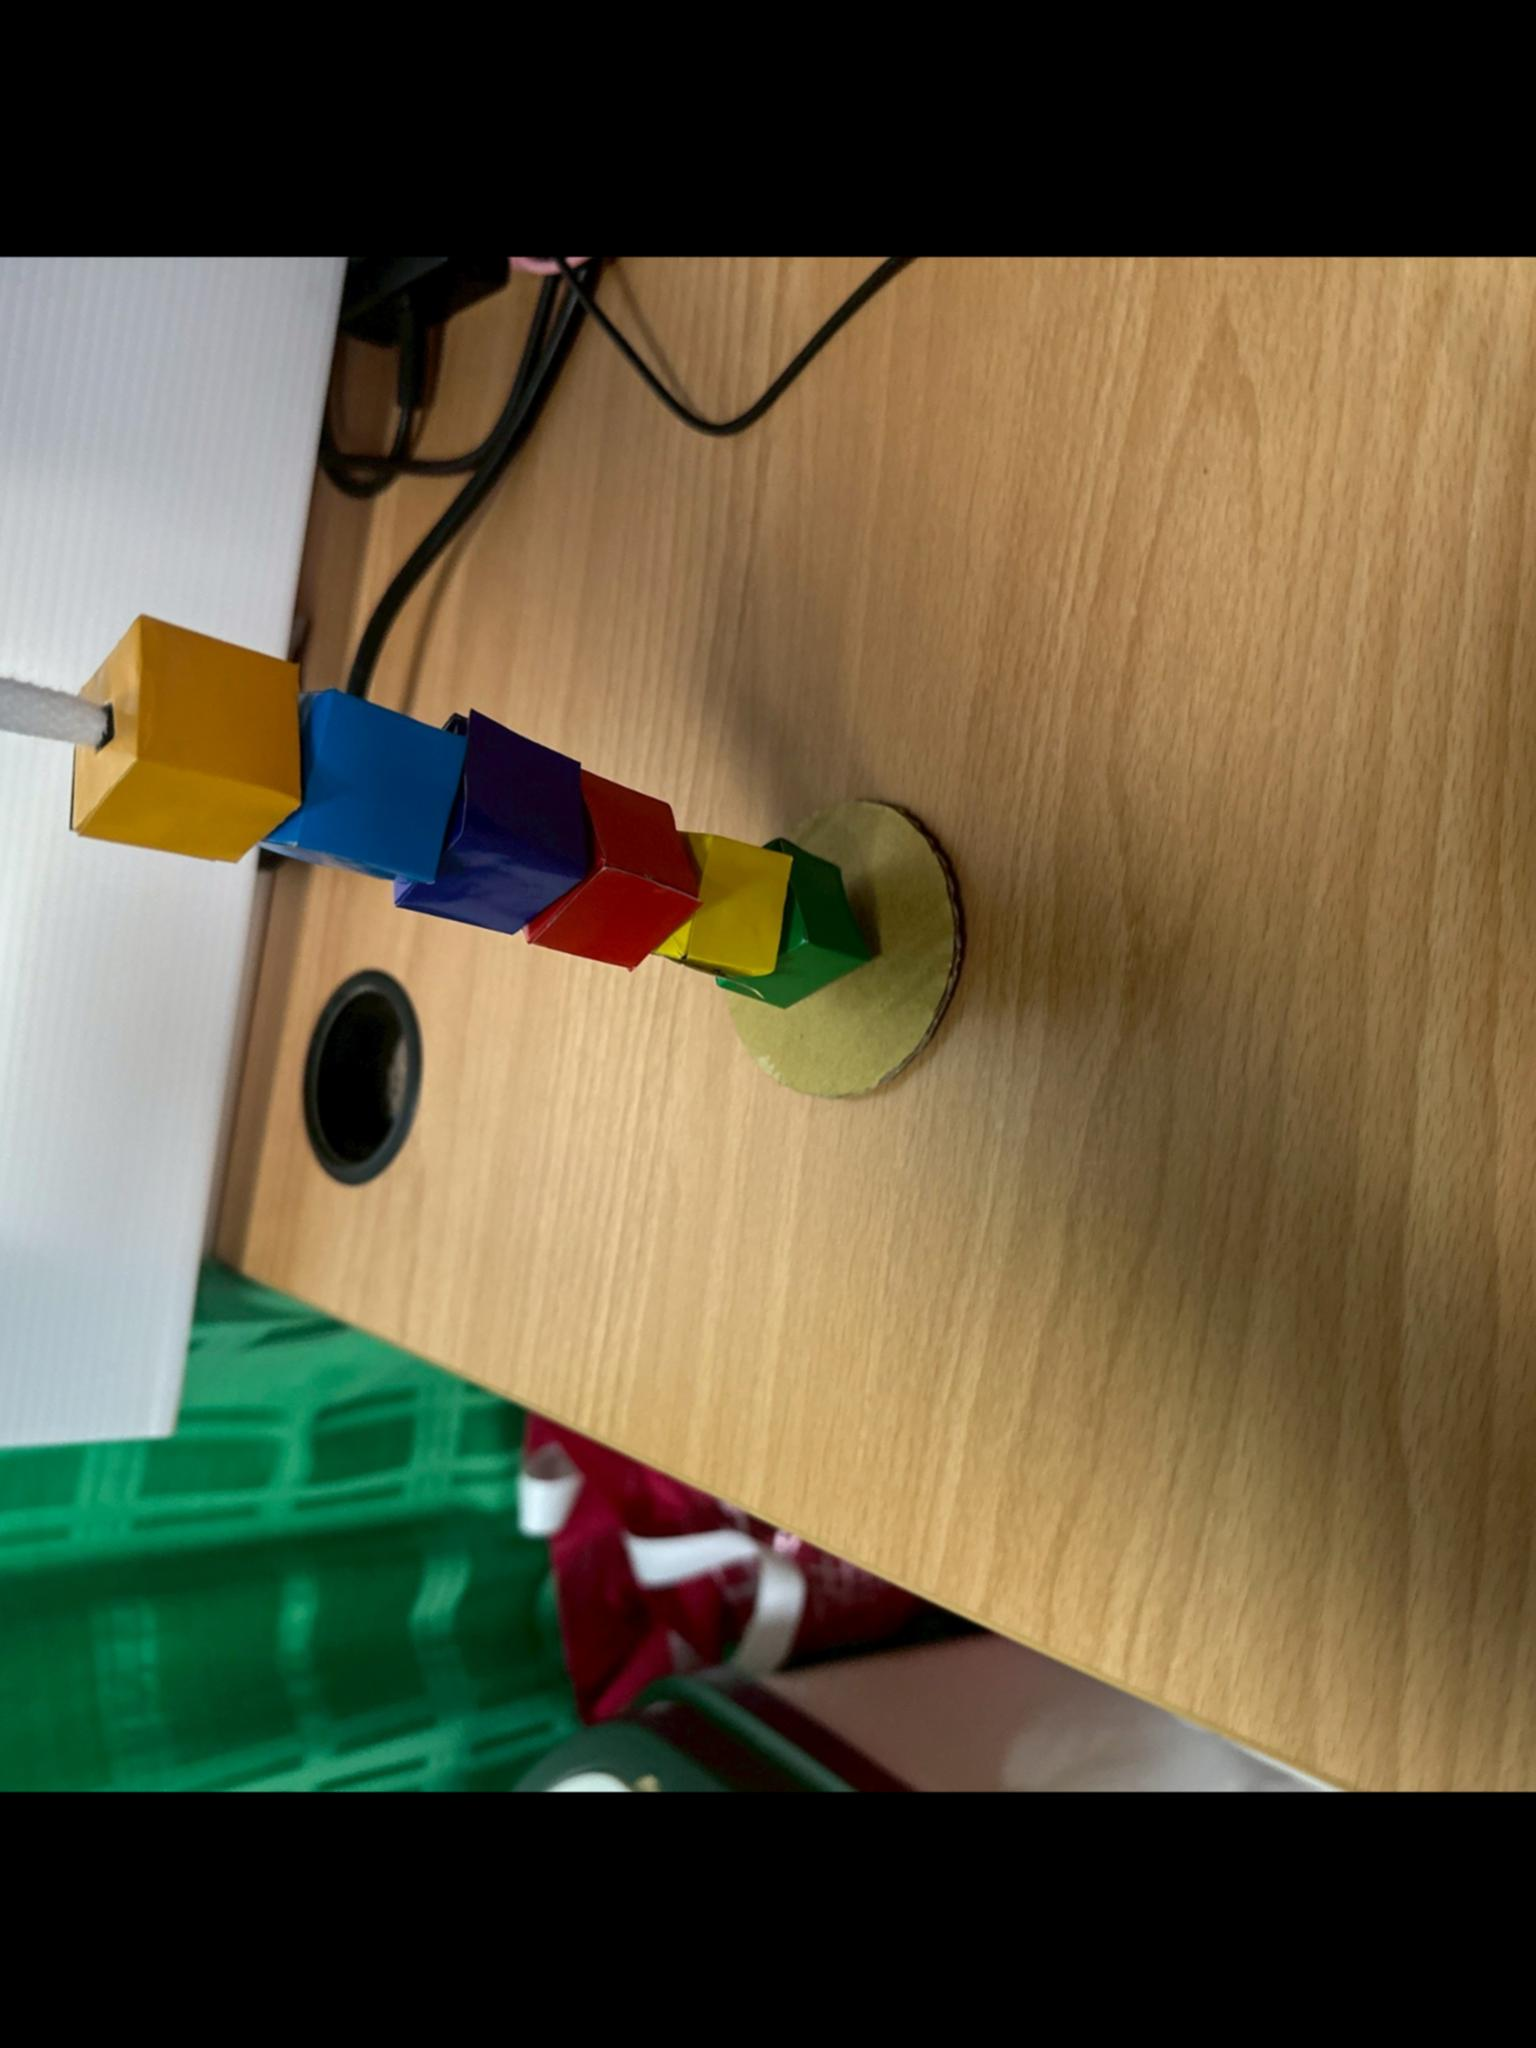base: (724, 800, 960, 1095)
